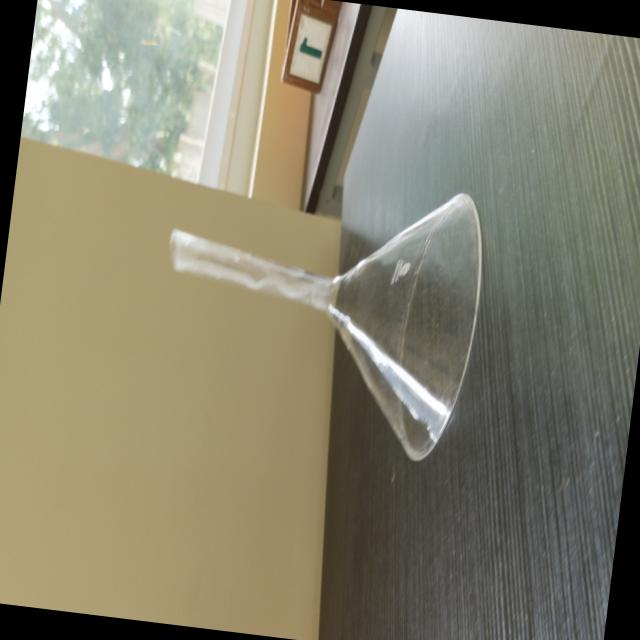funnel: (141, 114, 498, 492)
